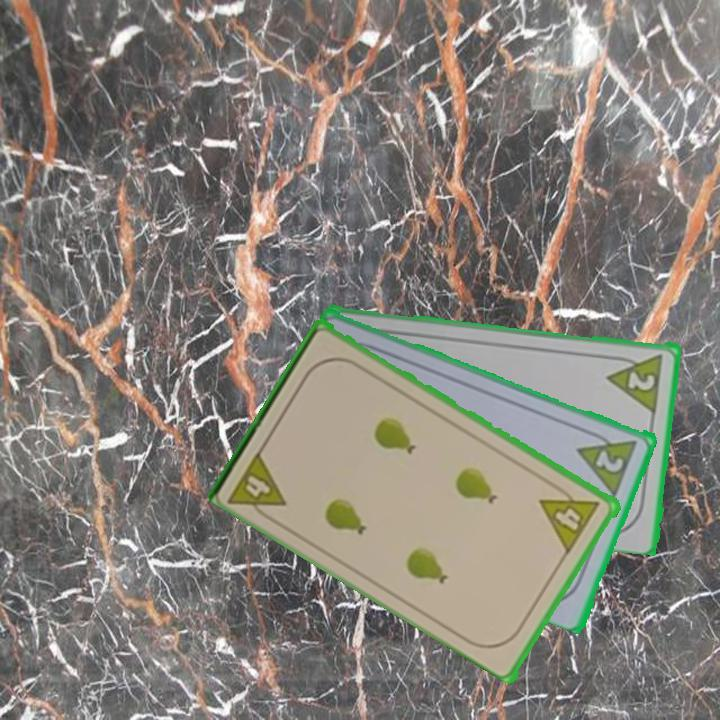2p: (604, 349, 666, 413), (592, 445, 628, 476)
4p: (225, 445, 290, 526), (537, 479, 603, 555)
